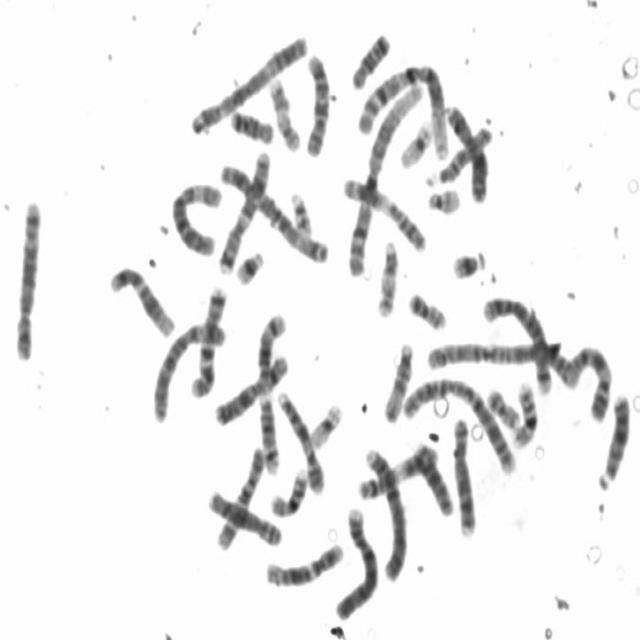A1: (344, 75, 426, 280), (352, 58, 450, 161)
A2: (398, 369, 519, 477), (421, 330, 575, 390)
A3: (187, 27, 311, 137), (217, 157, 332, 265)
B4: (359, 441, 410, 584), (332, 503, 380, 622)
B5: (478, 287, 556, 397), (11, 192, 45, 364)
C10: (212, 443, 266, 551), (302, 48, 334, 159)
C11: (339, 170, 428, 254), (353, 439, 439, 501)
C12: (105, 259, 176, 340), (261, 538, 346, 590)
C6: (150, 318, 227, 426), (167, 176, 224, 258)
C7: (215, 146, 272, 276), (187, 280, 230, 399)
C8: (204, 484, 284, 548), (447, 411, 479, 539)
C9: (273, 384, 327, 496), (563, 339, 613, 424)
D13: (592, 386, 633, 492), (409, 439, 457, 520)
D14: (255, 308, 288, 392), (255, 388, 284, 475)
D15: (422, 120, 496, 188), (379, 336, 415, 424)
E16: (508, 374, 540, 450), (267, 463, 310, 519)
E17: (266, 70, 304, 154), (373, 233, 399, 321)
E18: (348, 27, 393, 90), (226, 101, 276, 146)
F19: (395, 112, 435, 170), (305, 398, 345, 452)
F20: (404, 285, 448, 332), (483, 381, 522, 432)
G21: (447, 242, 489, 281), (231, 243, 266, 287)
G22: (286, 185, 316, 240), (424, 181, 464, 217)
X: (211, 350, 291, 429), (443, 99, 490, 206)
